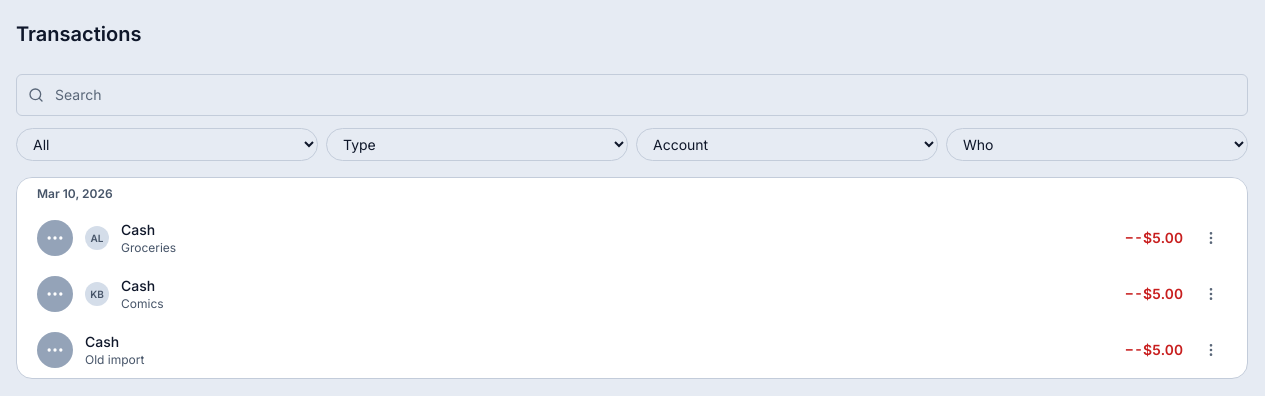
Scenario: shows who wrote each row and offers a Who filter when the household has several members
expect the text "Groceries" is shown: met, box [121,240,176,255]
expect the text titled "Ada Lovelace" reads "AL": met, box [90,232,103,244]
Select "Kid Byron" in the dropdown named "Who". click: point(1097, 145)
box: [946,128,1248,161]
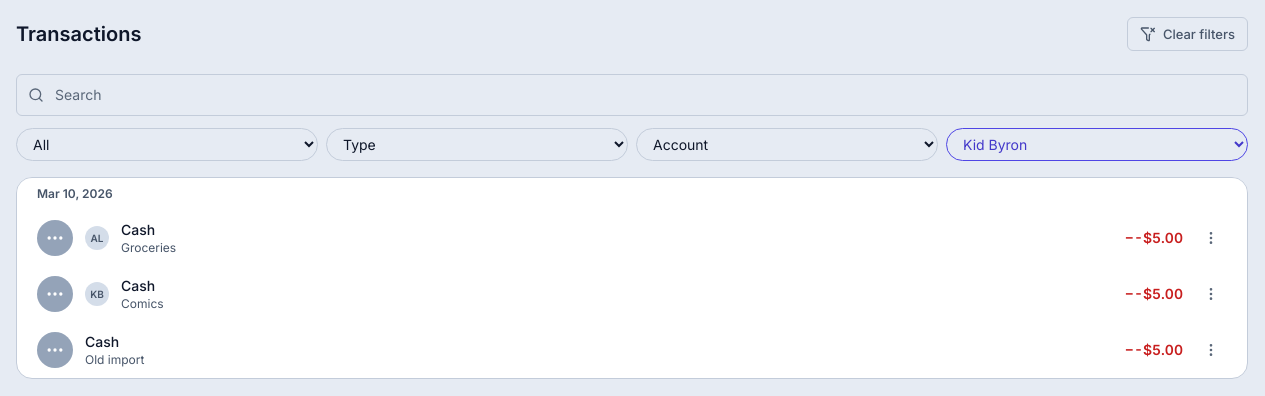
expect the button "Clear filters" is shown: met, box [1127,17,1248,51]
